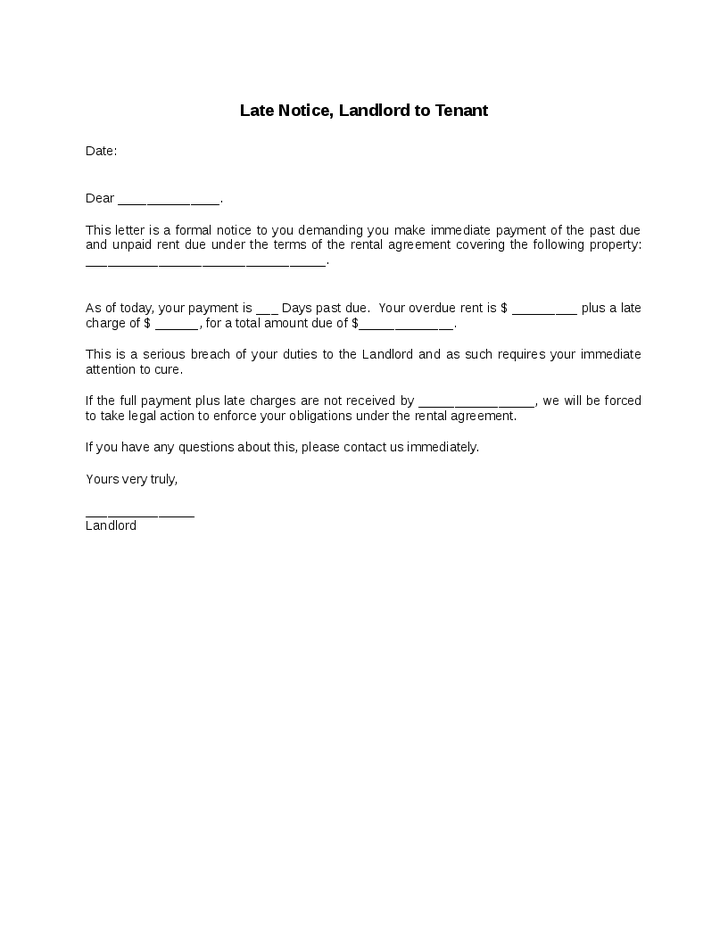textline: (85, 251, 329, 270), (414, 386, 542, 415), (118, 178, 223, 212), (79, 495, 193, 525), (359, 314, 456, 335), (508, 296, 581, 322), (153, 315, 199, 336), (253, 299, 279, 318)
